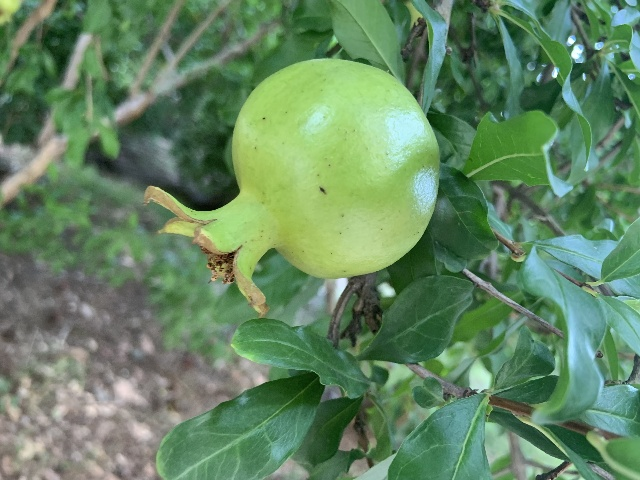mid-growth: (142, 57, 440, 321)
